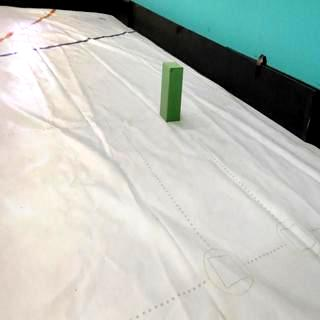greenbox: (158, 61, 184, 124)
